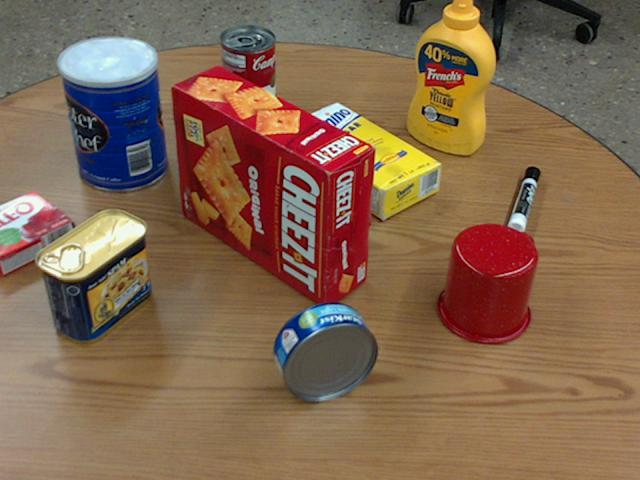cracker_box: (171, 66, 374, 307)
gelatin_box: (0, 190, 73, 273)
large_marker: (508, 167, 541, 235)
master_chef_can: (58, 36, 165, 191)
mug: (435, 223, 537, 343)
mustard_bottle: (408, 0, 495, 153)
potted_meat_can: (34, 207, 148, 341)
sugar_box: (282, 102, 441, 218)
tomato_soup_can: (220, 25, 275, 121)
tuna_fish_can: (274, 302, 378, 400)
